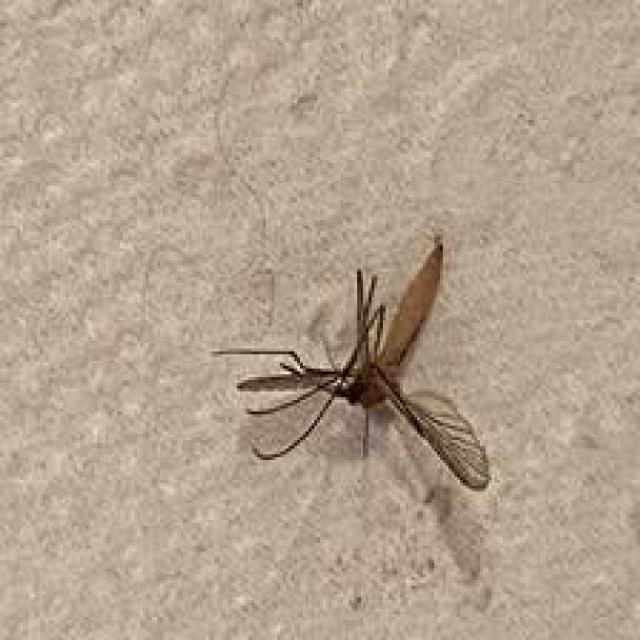Culex: (210, 233, 493, 493)
